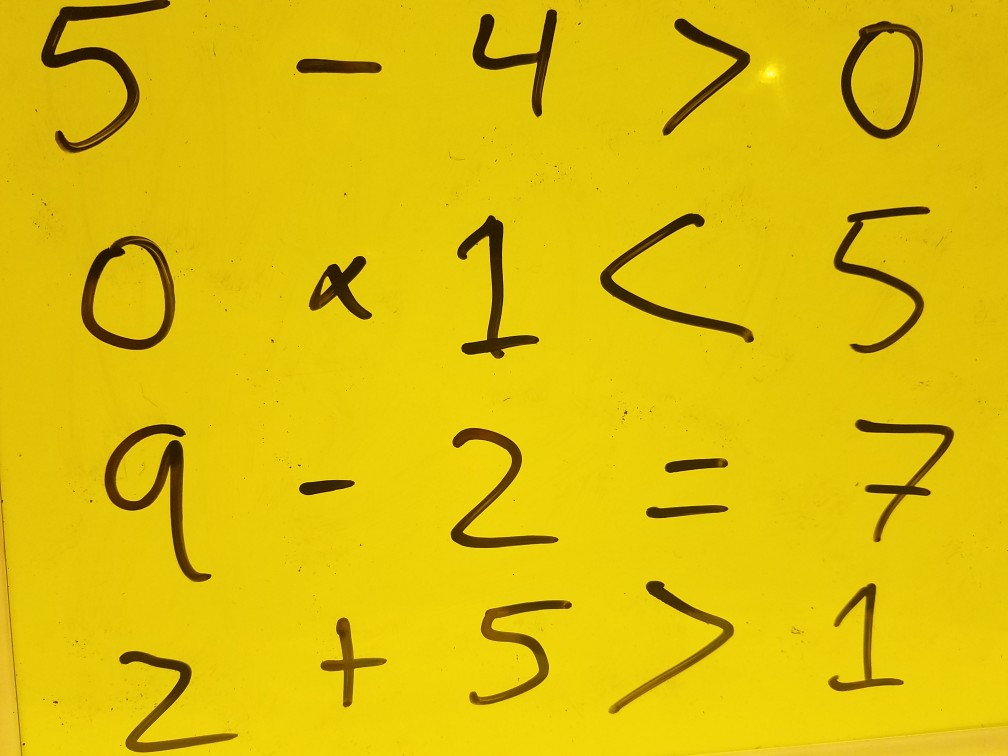+: (304, 598, 397, 729)
-: (266, 33, 404, 92), (285, 457, 365, 520)
0: (63, 228, 197, 373), (828, 11, 938, 157)
1: (441, 201, 547, 381), (809, 569, 922, 713)
2: (430, 413, 576, 565), (103, 638, 246, 756)
4: (460, 1, 574, 157)
5: (823, 192, 951, 369), (41, 1, 173, 171), (440, 587, 573, 715)
7: (830, 397, 963, 550)
9: (89, 411, 228, 607)
<: (581, 198, 766, 362)
=: (624, 441, 747, 539)
>: (600, 566, 744, 726), (652, 7, 762, 158)
x: (297, 246, 379, 336)
